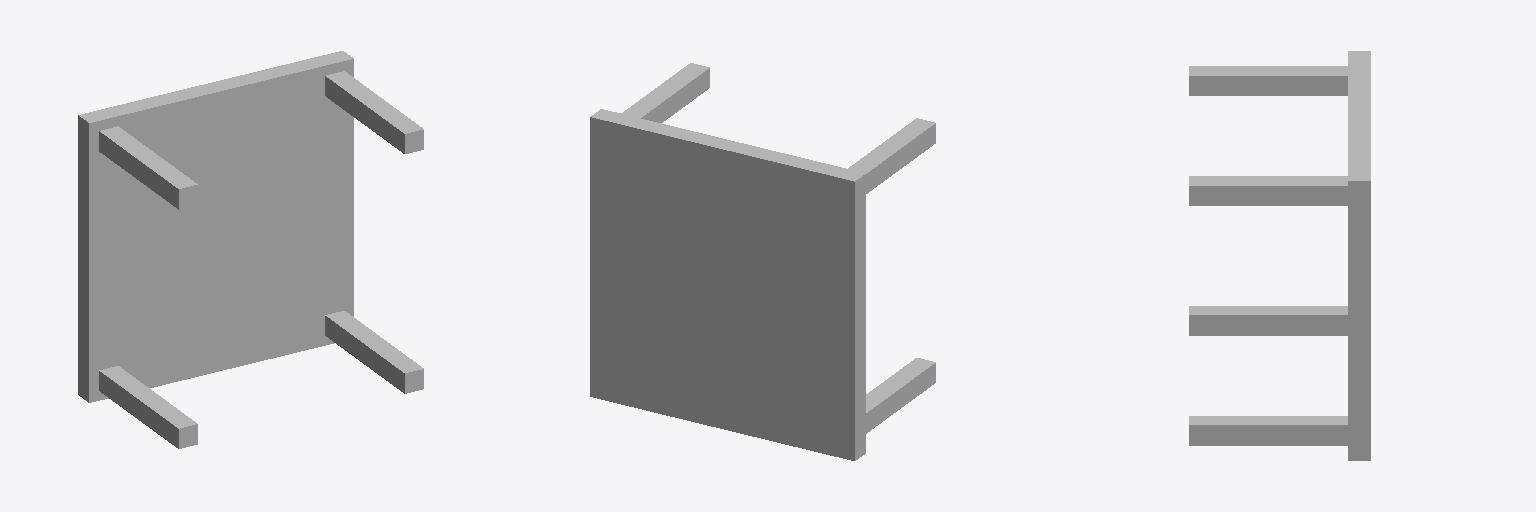
The model's file is random_table68.obj.
3 views of the same model, side by side, from view 1: azimuth 30°, elevation 25°; view 2: azimuth 150°, elevation 25°; view 3: azimuth 270°, elevation 25° (orthographic).
Visible parts, largest first — view 1: Table_Cube.1405, TableLeg3_Cube.1409, TableLeg1_Cube.1407, TableLeg0_Cube.1406, TableLeg2_Cube.1408; view 2: Table_Cube.1405, TableLeg1_Cube.1407, TableLeg3_Cube.1409, TableLeg0_Cube.1406; view 3: Table_Cube.1405, TableLeg0_Cube.1406, TableLeg1_Cube.1407, TableLeg2_Cube.1408, TableLeg3_Cube.1409.
Part boxes in pixels (left/top/right/bottom): Table_Cube.1405: left=78, top=51, right=353, bottom=402; TableLeg3_Cube.1409: left=99, top=366, right=197, bottom=448; TableLeg1_Cube.1407: left=99, top=126, right=197, bottom=209; TableLeg0_Cube.1406: left=325, top=71, right=423, bottom=153; TableLeg2_Cube.1408: left=325, top=311, right=423, bottom=393; Table_Cube.1405: left=590, top=109, right=865, bottom=460; TableLeg1_Cube.1407: left=848, top=118, right=935, bottom=193; TableLeg3_Cube.1409: left=866, top=358, right=935, bottom=433; TableLeg0_Cube.1406: left=621, top=63, right=709, bottom=122; Table_Cube.1405: left=1348, top=51, right=1370, bottom=460; TableLeg0_Cube.1406: left=1189, top=176, right=1347, bottom=205; TableLeg1_Cube.1407: left=1189, top=66, right=1347, bottom=95; TableLeg2_Cube.1408: left=1189, top=416, right=1347, bottom=445; TableLeg3_Cube.1409: left=1189, top=306, right=1347, bottom=335.
Bounding box in the file's own units: 7.57 × 7.64 × 4.5.